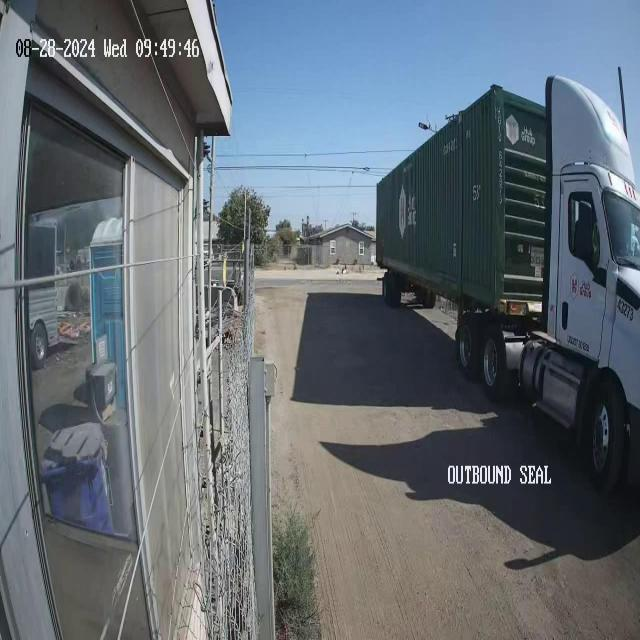TRUCK_IN: (375, 68, 639, 495)
